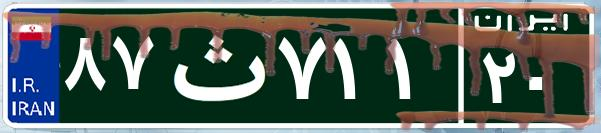0: (525, 38, 570, 115)
1: (385, 28, 445, 110), (330, 28, 385, 110)
2: (475, 38, 525, 113)
7: (273, 28, 330, 110), (110, 28, 158, 105)
8: (57, 26, 110, 107)
ث: (158, 15, 273, 115)
